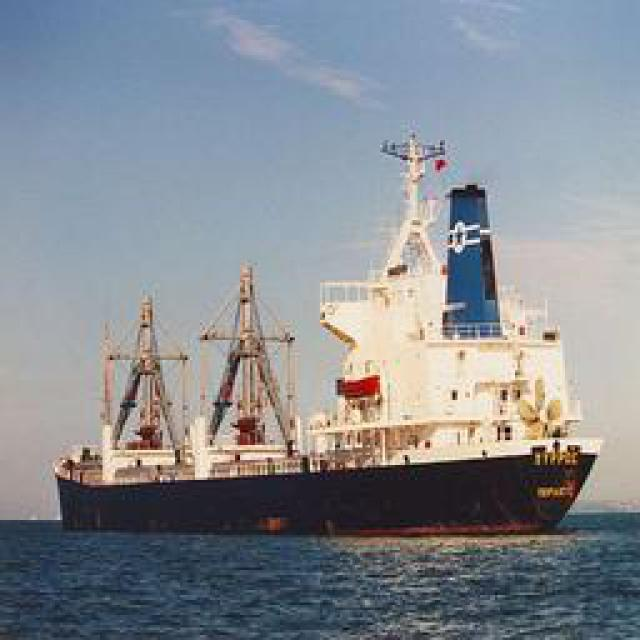Ship: (44, 135, 609, 543)
